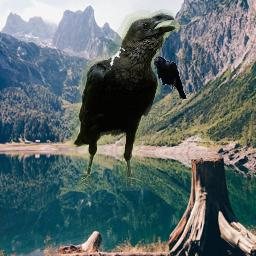Crow: (70, 9, 181, 191), (153, 56, 187, 101)
